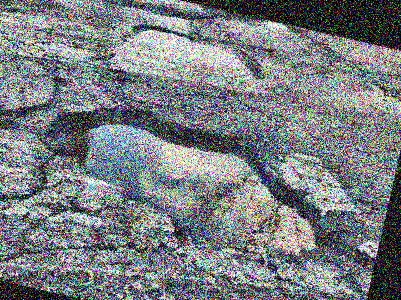pothole: (23, 85, 345, 276), (128, 16, 197, 45)
